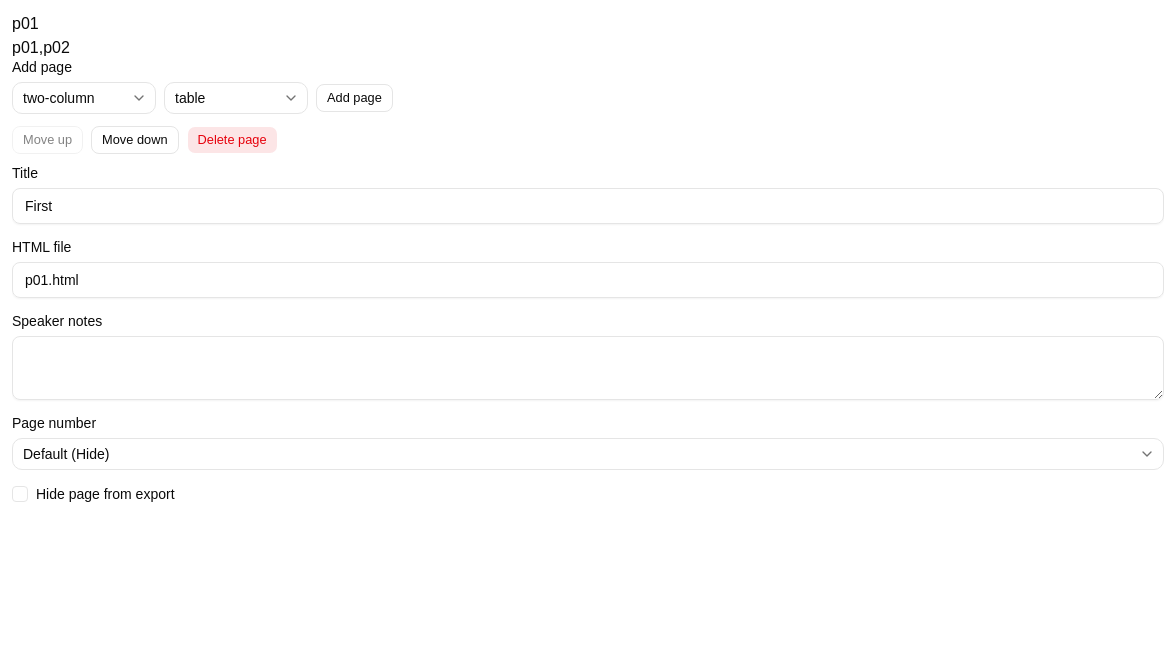
Test: workshop page lifecycle › adds a blank two-column page after the selection and selects it
Click the button "Add page": (354, 98) [316,84,393,112]
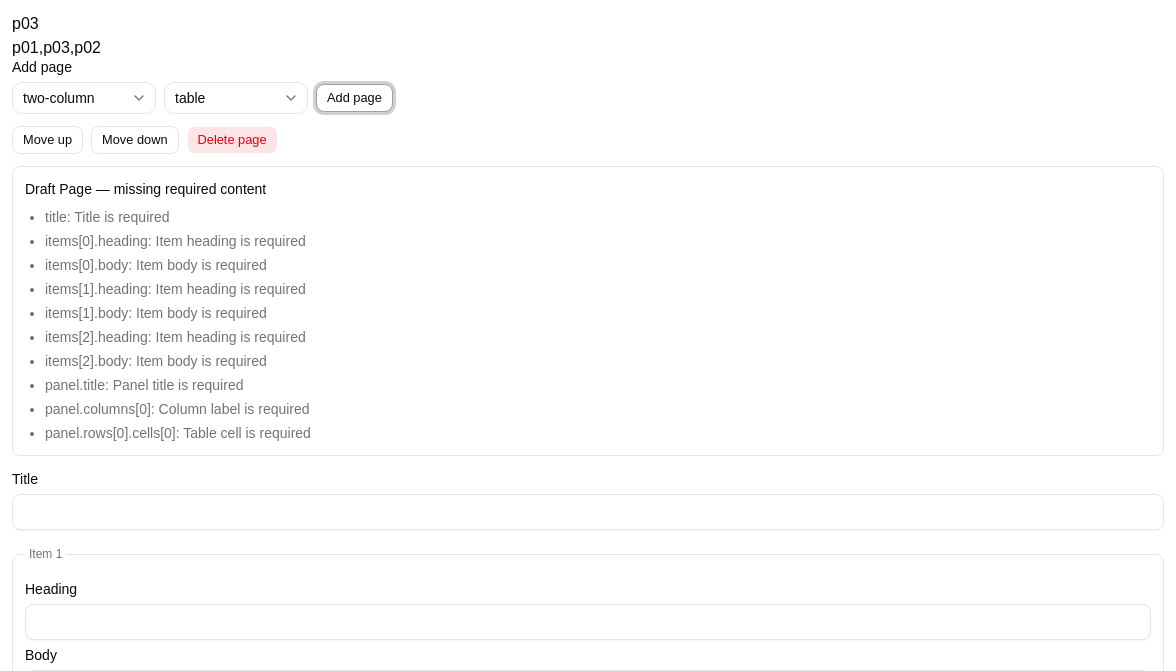
expect the text with test id "page-ids" reads "p01,p03,p02": met, box [12,39,101,56]
expect the text with test id "selected-page" reads "p03": met, box [12,15,39,32]
expect the message shows "Draft Page — missing required content": met, box [25,181,266,197]
